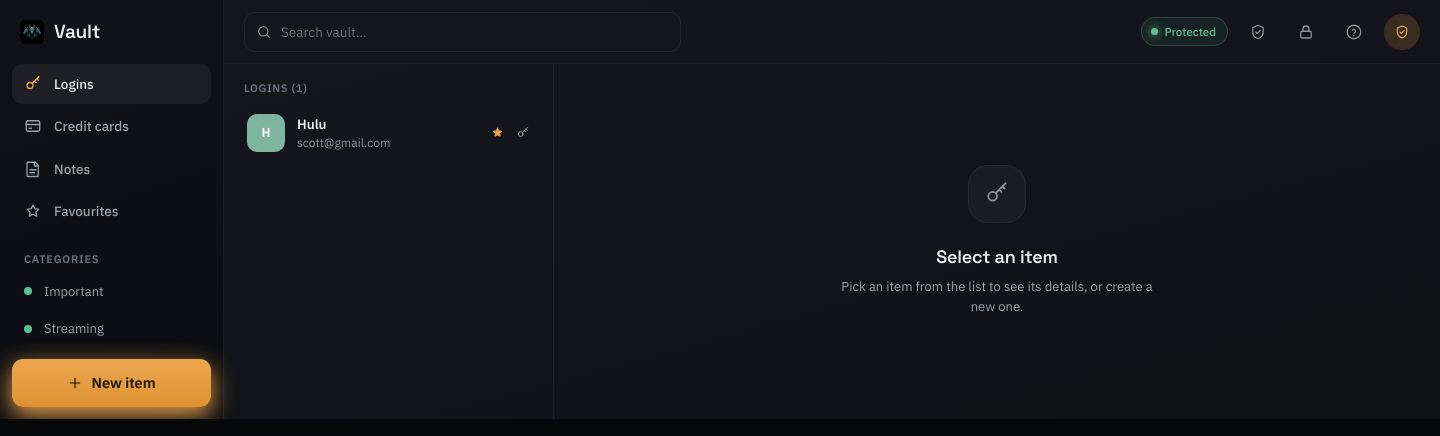
Test: VaultView — redesigned vault (nav, search, detail) › filters by sidebar section (logins / cards / favourites)
The width and height of the screenshot is (1440, 436).
Expected: the text "Hulu" is shown, [297, 114, 327, 132]
Expected: the text "Personal Visa" is not shown
Credit cards → the card, not the login.
Step 1. Click the button "Credit cards" → {"x": 112, "y": 126}, box [12, 106, 211, 147]
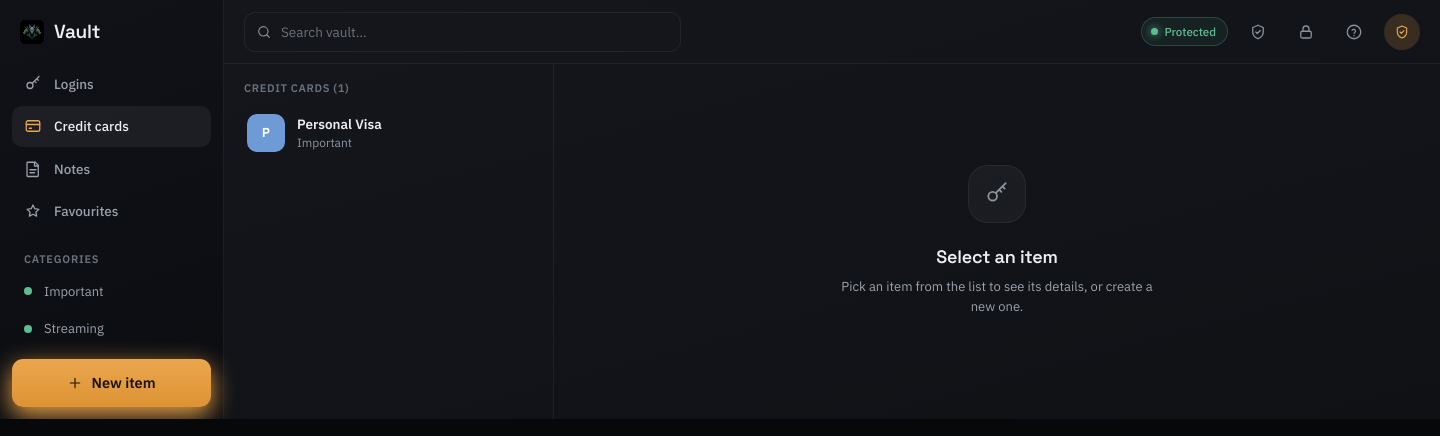
Now the text "Personal Visa" is shown, box [297, 114, 382, 132]
Now the button "Hulu" is gone
Favourites → the favourited login.
Step 2. Click the button "Favourites" → {"x": 112, "y": 211}, box [12, 191, 211, 231]
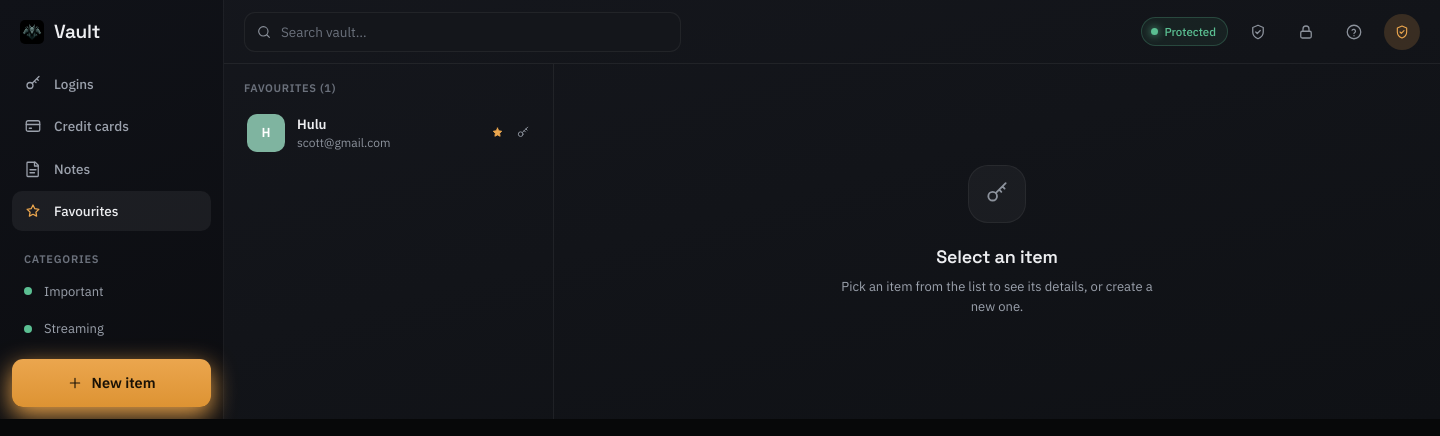
Now the text "Hulu" is shown, box [297, 114, 327, 132]
Now the button "Personal Visa" is gone
